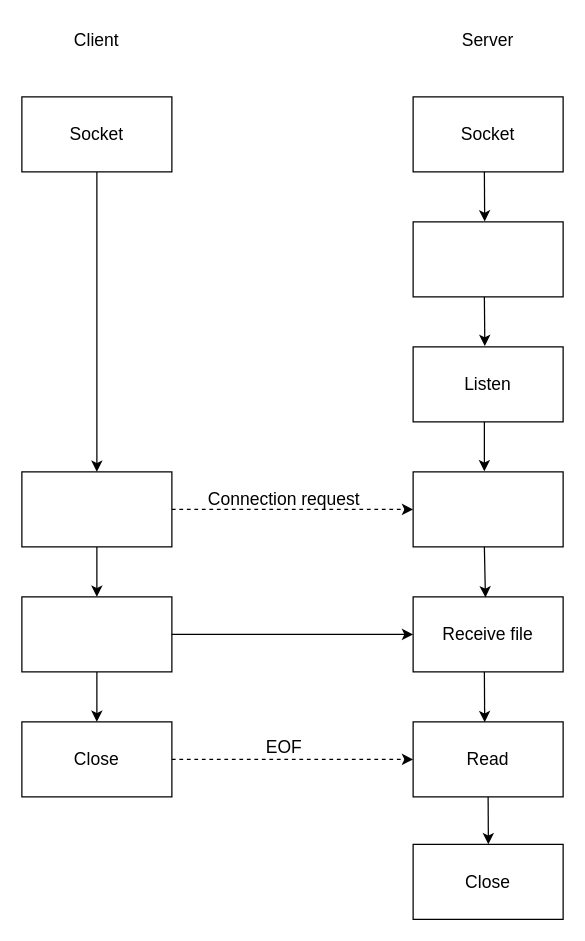
Some shapes in this 585 by 941 pixel diagram are drawn without their labels. The box of each missing label's shape, as (x1, y1, x2, y2) in pixels:
Accept: (412, 471, 563, 547)
Bind: (412, 221, 563, 297)
Connect: (21, 471, 172, 547)
Send file: (21, 596, 172, 672)
